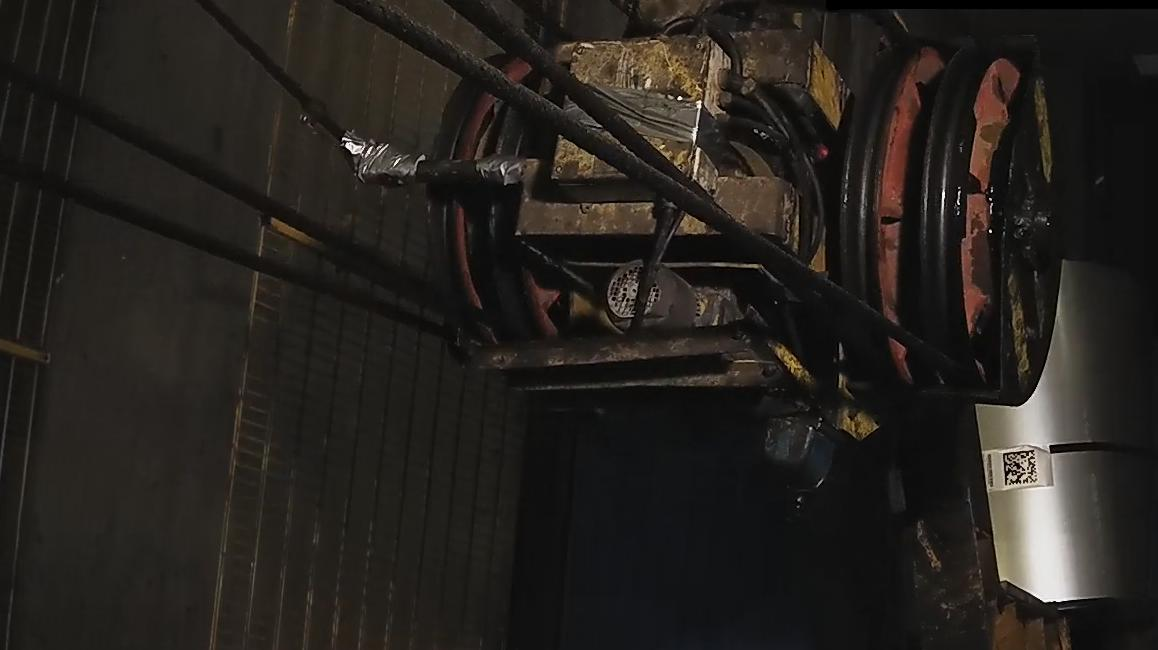data matrix: (1002, 449, 1041, 489)
